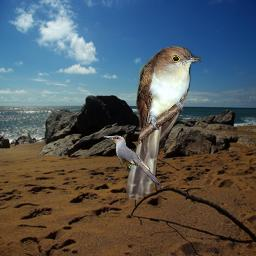Cuckoo: (126, 45, 201, 200), (103, 135, 164, 189)
